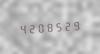eight: (44, 20, 52, 33)
five: (53, 19, 61, 33)
four: (17, 22, 25, 35)
nine: (71, 18, 79, 31)
two: (26, 21, 34, 35), (62, 19, 70, 32)
zero: (35, 21, 43, 34)
